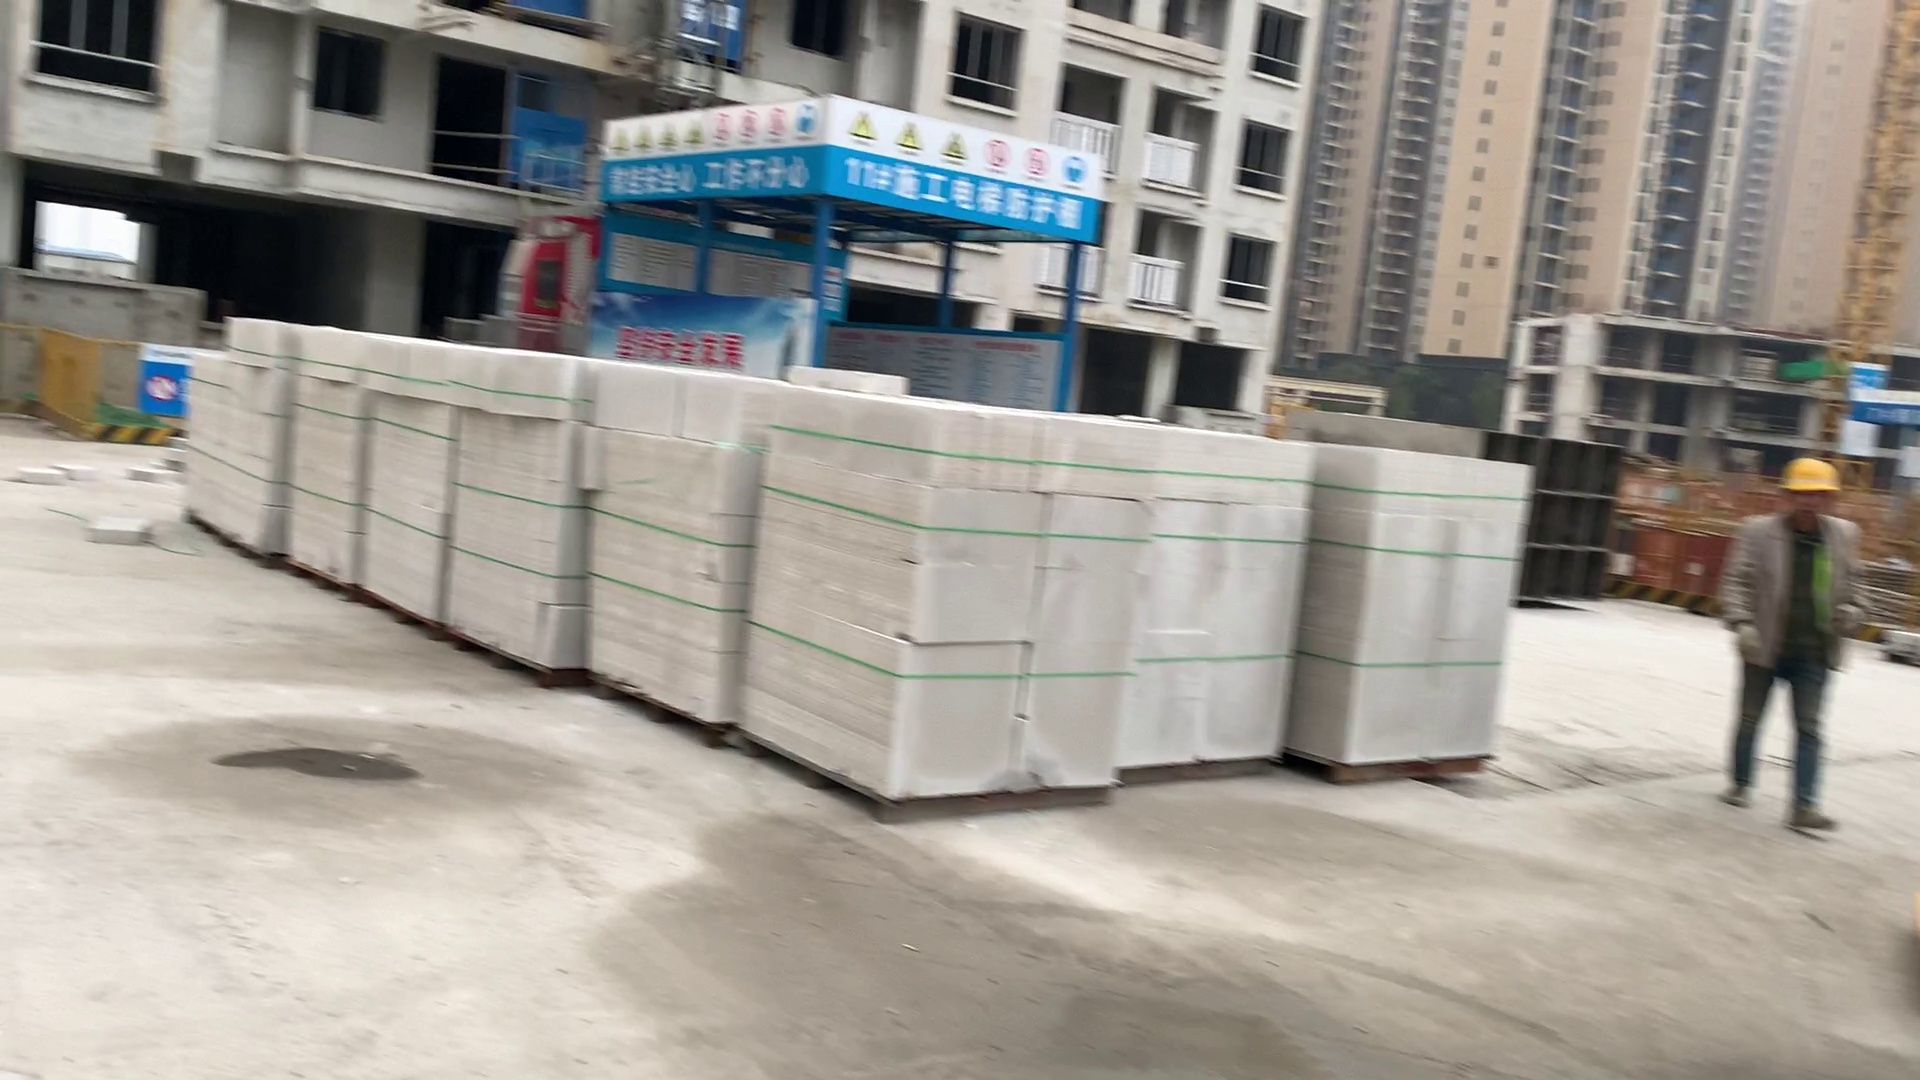brickwork: (766, 396, 1112, 808), (1309, 452, 1502, 775), (1127, 425, 1295, 773), (588, 371, 745, 723), (454, 353, 578, 669), (169, 314, 287, 560), (368, 339, 454, 626), (274, 327, 365, 591)
